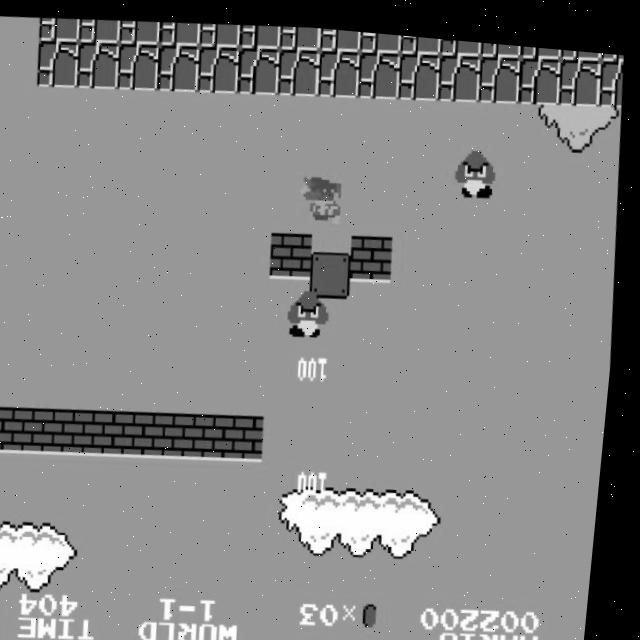1- brick_block: (352, 226, 399, 277), (107, 406, 154, 456), (67, 406, 114, 456), (27, 405, 74, 455), (272, 225, 318, 276), (228, 408, 274, 458), (188, 407, 234, 457), (148, 407, 194, 457), (0, 404, 34, 454)
11- little_mario: (300, 168, 350, 222)
17- undestructible_block: (557, 47, 604, 98), (517, 46, 564, 97), (477, 45, 524, 96), (356, 43, 403, 94), (316, 42, 363, 93), (276, 42, 323, 93), (236, 41, 283, 92), (196, 40, 243, 91), (156, 40, 203, 91), (116, 39, 163, 90), (76, 38, 123, 89), (437, 44, 483, 95), (397, 44, 443, 95), (36, 37, 82, 88), (598, 48, 626, 97), (238, 18, 282, 46), (158, 17, 202, 45), (118, 16, 162, 44), (78, 16, 122, 44), (38, 15, 82, 43), (278, 20, 322, 47), (198, 18, 242, 45), (318, 22, 362, 47), (358, 25, 402, 48), (399, 28, 442, 49), (439, 31, 482, 50), (479, 34, 522, 51), (519, 36, 562, 51), (559, 39, 602, 52), (600, 42, 624, 52)
